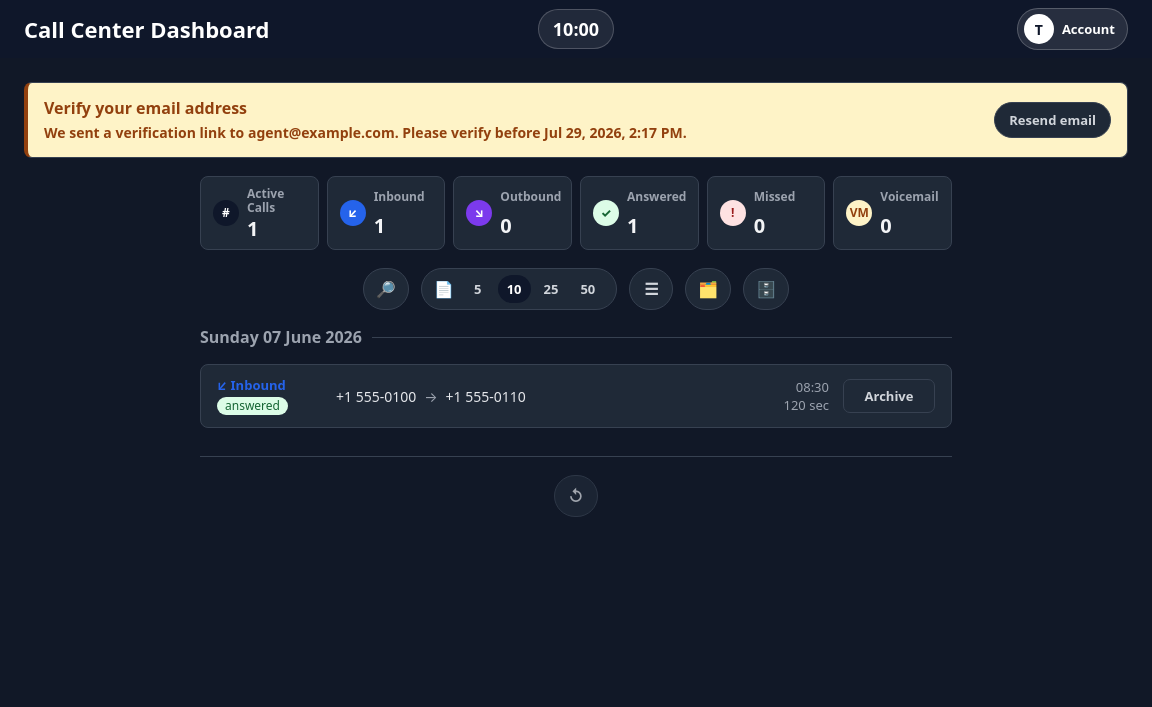
App API-backed user flows › lets users rerun tutorial topics from the account drawer
The width and height of the screenshot is (1152, 707).
Expected: the text "+1 555-0100" is shown, x1=336 y1=387 x2=416 y2=406
Click the button with aria-label "Open account settings" at (1072, 29), box x1=1017 y1=8 x2=1128 y2=50
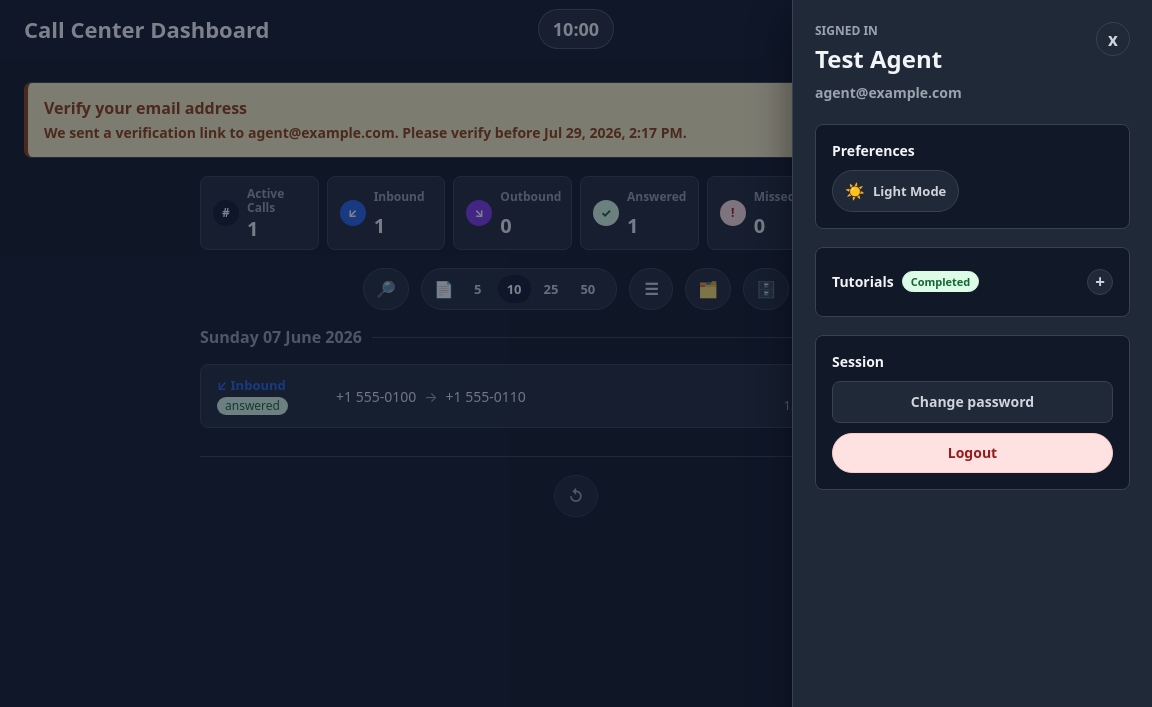
Expected: the button "Full tutorial" is not shown
Click the button "Tutorials Completed +" at (972, 282), box x1=832 y1=264 x2=1113 y2=300
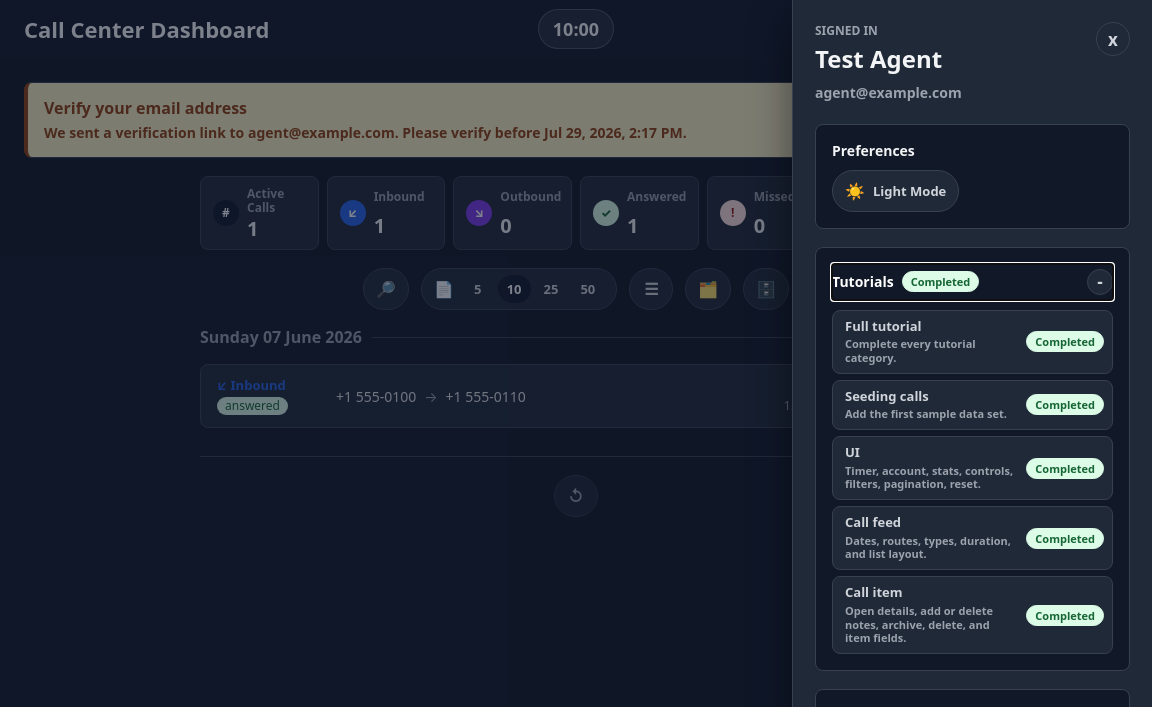
Now the button "Tutorials Completed -" is expanded, box x1=832 y1=264 x2=1113 y2=300
Now the button with aria-label "Full tutorial Completed" is shown, box x1=832 y1=310 x2=1113 y2=374
Now the button with aria-label "Seeding calls Completed" is shown, box x1=832 y1=380 x2=1113 y2=430
Click the button with aria-label "UI Completed" at (972, 468), box x1=832 y1=436 x2=1113 y2=500
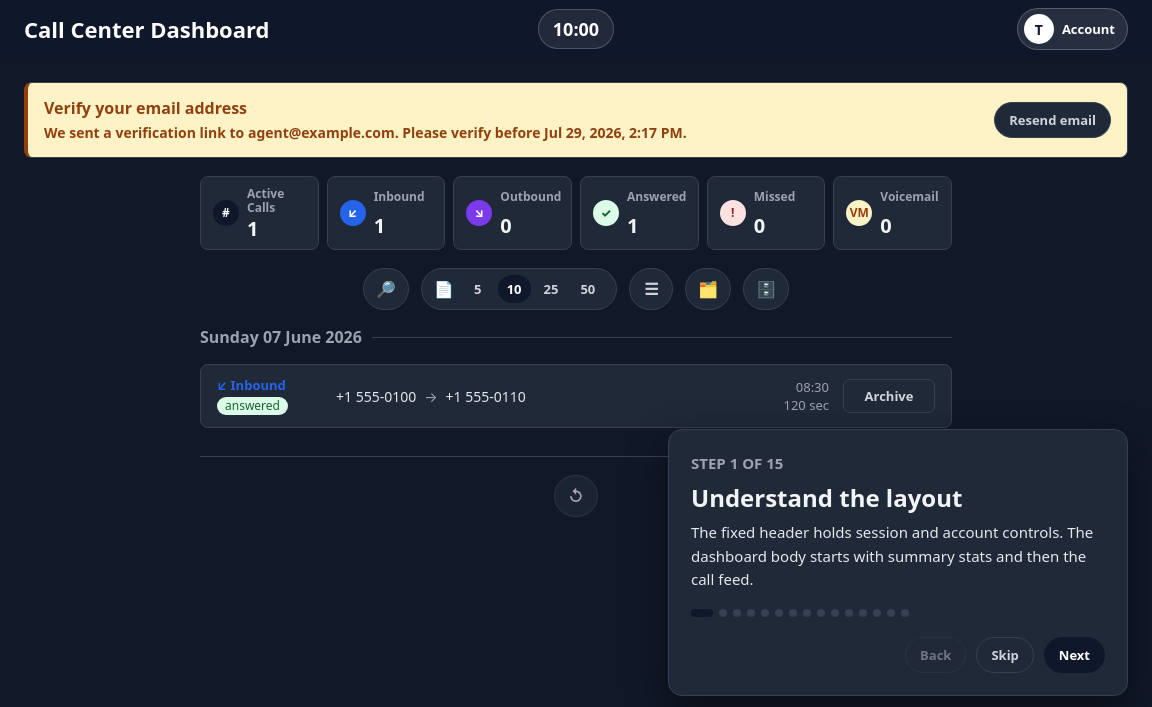
Now the dialog "Understand the layout" is shown, box x1=668 y1=429 x2=1128 y2=696
Now the heading "Test Agent" is gone
